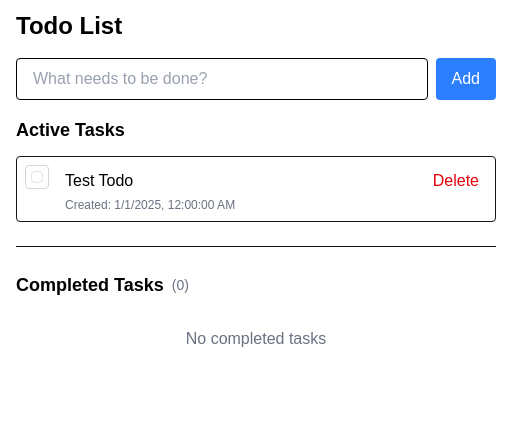
Test: TodoList Component › Deleting Todos › should display error when deletion fails
Expected: the text "Test Todo" is shown, 65,172 -> 133,189
Click the button "Delete" at {"x": 456, "y": 181}, box 425,165 -> 487,197
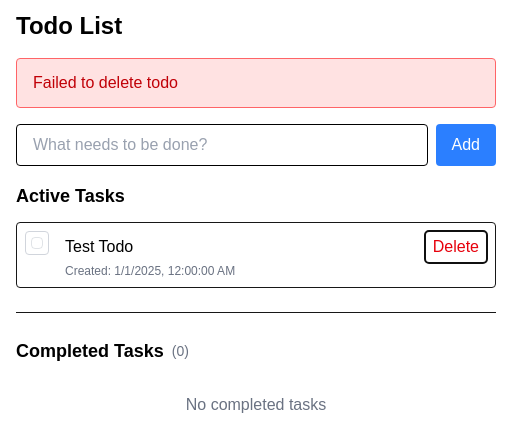
Now the text "Failed to delete todo" is shown, box 33,74 -> 178,91
